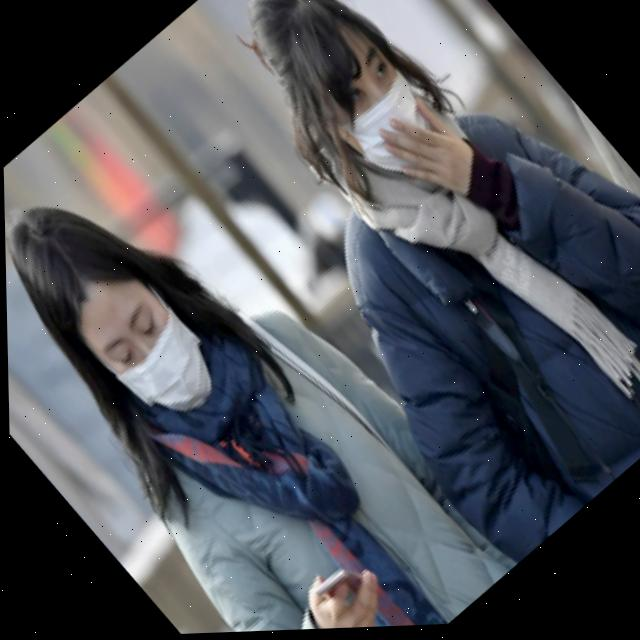Mask: (84, 288, 232, 442), (321, 65, 465, 211)
